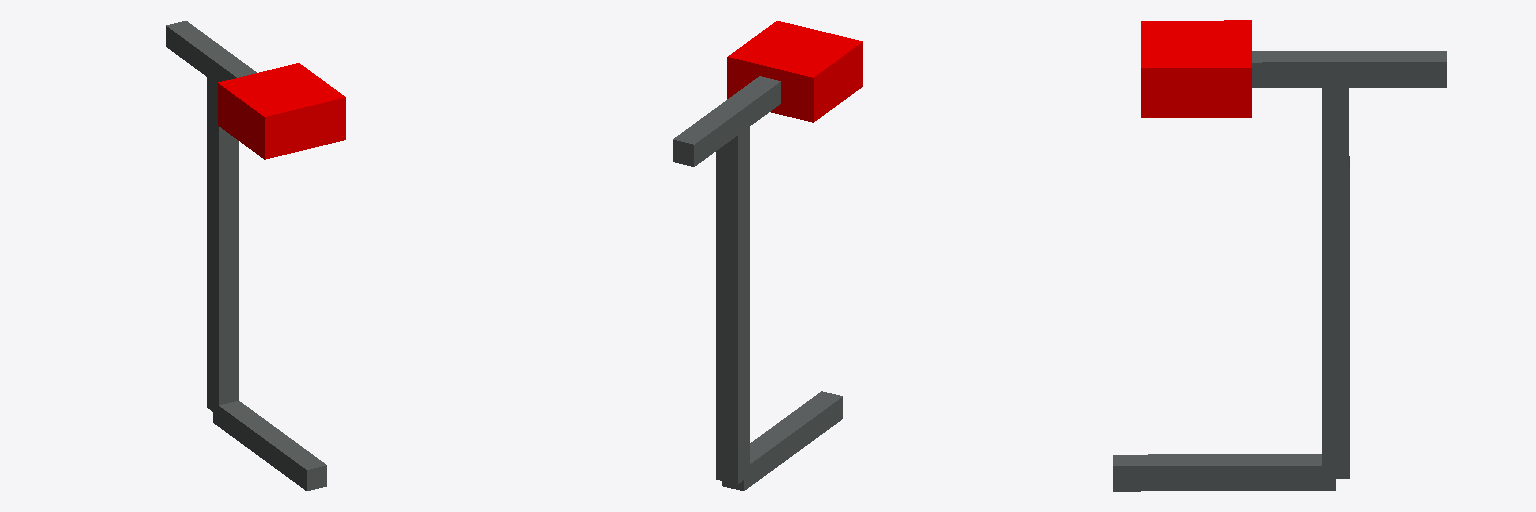
URDF robot description (robot):
<robot name="robot">
    <link name="world" />
    <joint name="base_joint" type="fixed">
        <origin xyz="0 0 0" rpy="-1.57 0 0" />
        <parent link="world" />
        <child link="base" />
    </joint>
    <link name="base">
        <collision>
            <origin xyz="0 0 0" rpy="0 -0 0" />
            <geometry>
                <box size="0.1 0.1 0.8" />
            </geometry>
        </collision>
        <visual>
            <origin xyz="0 0 0" rpy="0 -0 0" />
            <geometry>
                <box size="0.1 0.1 0.8" />
            </geometry>
            <material name="">
                <color rgba="0.403 0.424 0.420 1"/>
            </material>
        </visual>
    </link>
    <joint name="link1_joint" type="revolute">
        <origin xyz="0 0 0.4" rpy="0 1.5708 3.14159" />
        <parent link="base" />
        <child link="link1" />
        <limit effort="0" velocity="0" lower="-3.14159" upper="3.14159" />
    </joint>
    <link name="link1">
        <collision>
            <origin xyz="-0.0 0.4 0" rpy="3.14159 -1.5708 3.14159" />
            <geometry>
                <box size="0.1 0.8 0.1" />
            </geometry>
        </collision>
        <visual>
            <origin xyz="-0.0 0.4 0" rpy="3.14159 -1.5708 3.14159" />
            <geometry>
                <box size="0.1 0.8 0.1" />
            </geometry>
            <material name="">
                <color rgba="0.403 0.424 0.420 1"/>
            </material>
        </visual>
    </link>
    <joint name="link2_joint" type="revolute">
        <origin xyz="-0.0 0.8 0" rpy="0 -0 0" />
        <parent link="link1" />
        <child link="link2" />
        <limit effort="0" velocity="0" lower="-3.14159" upper="3.14159" />
    </joint>
    <link name="link2">
        <collision>
            <origin xyz="-0.0 0.4 0" rpy="3.14159 -1.5708 3.14159" />
            <geometry>
                <box size="0.1 0.8 0.1" />
            </geometry>
        </collision>
        <visual>
            <origin xyz="-0.0 0.4 0" rpy="3.14159 -1.5708 3.14159" />
            <geometry>
                <box size="0.1 0.8 0.1" />
            </geometry>
            <material name="">
                <color rgba="0.403 0.424 0.420 1"/>
            </material>
        </visual>
    </link>
    <joint name="link3_joint" type="prismatic">
        <origin xyz="-0.0 0.8 0" rpy="0 -0 0" />
        <parent link="link2" />
        <child link="link3" />
        <limit effort="0" velocity="0" lower="-0.2" upper="0.15" />
    </joint>
    <link name="link3">
        <collision>
            <origin xyz="0 0 0" rpy="1.5708 -1.5708 3.14159" />
            <geometry>
                <!-- <capsule radius="0.2"length="2" /> -->
                <box size="0.1 0.8 0.1"/>
            </geometry>
        </collision>
        <visual>
            <origin xyz="0 0 0" rpy="1.5708 -1.5708 3.14159" />
            <geometry>
                <!-- <capsule radius="0.2"length="2" /> -->
                <box size="0.1 0.8 0.1"/>
            </geometry>
            <material name="">
                <color rgba="0.403 0.424 0.420 1"/>
            </material>
        </visual>
    </link>
    <joint name="end_effctor_joint" type="revolute">
        <origin xyz="0.4 0 0" rpy="1.5708 -0 3.14159" />
        <parent link="link3" />
        <child link="end_effector" />
        <limit effort="0" velocity="0" lower="-3.14159" upper="3.14159" />
    </joint>
    <link name="end_effector">
        <collision>
            <origin xyz="-0.1 0 0" rpy="0 1.5708 0" />
            <geometry>
                <box size="0.2 0.4 0.4" />
            </geometry>
        </collision>
        <visual>
            <origin xyz="-0.1 0 0" rpy="0 1.5708 0" />
            <geometry>
                <box size="0.2 0.4 0.4" />
            </geometry>
            <material name="">
                <color rgba="1 0 0 1"/>
            </material>
        </visual>
    </link>
    <!-- <joint name="left_pad_joint" type="fixed">
        <origin xyz="0 -0.5 -0.05" rpy="0 -0 0" />
        <parent link="end_effector" />
        <child link="left_pad" />
    </joint>
    <link name="left_pad">
        <collision>
            <origin xyz="0 -0.05 -0.35" rpy="0 -0 0" />
            <geometry>
                <box size="0.4 0.1 0.8" />
            </geometry>
        </collision>
        <visual>
            <origin xyz="0 -0.05 -0.35" rpy="0 -0 0" />
            <geometry>
                <box size="0.4 0.1 0.8" />
            </geometry>
        </visual>
    </link>
    <joint name="right_pad_joint" type="fixed">
        <origin xyz="0 0.5 -0.05" rpy="0 -0 0" />
        <parent link="end_effector" />
        <child link="right_pad" />
    </joint>
    <link name="right_pad">
        <collision>
            <origin xyz="0 0.05 -0.35" rpy="0 -0 0" />
            <geometry>
                <box size="0.4 0.1 0.8" />
            </geometry>
        </collision>
        <visual>
            <origin xyz="0 0.05 -0.35" rpy="0 -0 0" />
            <geometry>
                <box size="0.4 0.1 0.8" />
            </geometry>
        </visual>
    </link> -->
</robot>

--- Render facts (derived) ---
The picture shows the robot from 3 angles, left to right: view 1: azimuth 30°, elevation 25°; view 2: azimuth 150°, elevation 25°; view 3: azimuth 270°, elevation 25°; orthographic projection.
Model robot with 6 links and 5 joints (3 revolute, 1 prismatic, 1 fixed), rooted at world, posed all joints at 0.
Links seen in each view (by area): view 1: end_effector, link1, base, link2, link3; view 2: end_effector, link1, link2, link3, base; view 3: end_effector, base, link3, link1, link2.
Boxes of the visible links, x1,y1,x2,y2 form: end_effector: [218, 63, 345, 159]; link1: [207, 237, 238, 411]; base: [213, 401, 326, 490]; link2: [207, 67, 238, 244]; link3: [166, 21, 256, 84]; end_effector: [727, 21, 862, 122]; link1: [716, 296, 749, 484]; link2: [716, 117, 749, 303]; link3: [673, 76, 780, 166]; base: [722, 391, 842, 490]; end_effector: [1141, 20, 1251, 117]; base: [1113, 454, 1335, 491]; link3: [1252, 51, 1446, 87]; link1: [1322, 277, 1349, 478]; link2: [1322, 75, 1349, 276].
Bounding box of the posed robot: 0.4 × 1.2 × 1.75 m (x, y, z).
Geometry: primitives only (box / cylinder / sphere), no mesh files.